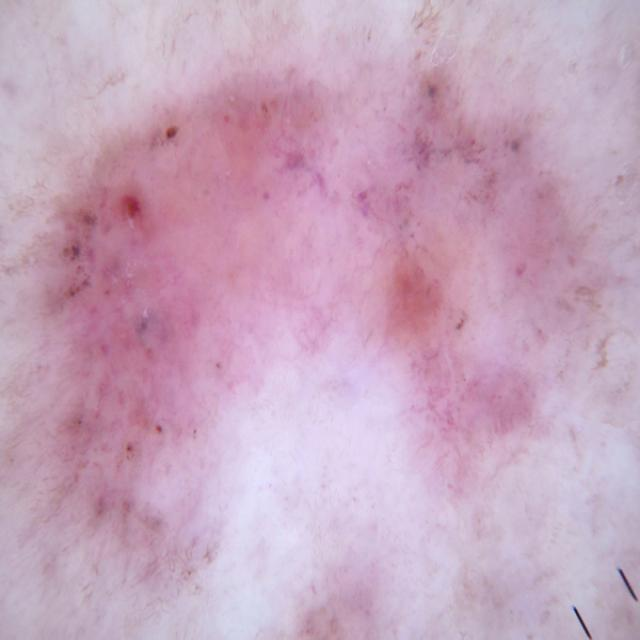Skin-Cancer Basal cell carcinoma: (22, 35, 632, 640)
